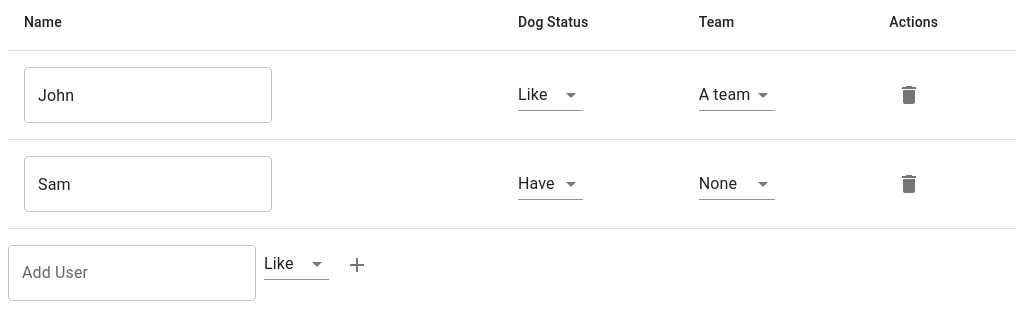
Scenario: PeoplePage › test delete
This screenshot has width=1024, height=318.
Step 1. Click the 1st button with test id "delete" → (909, 95), box 889,75 -> 929,115
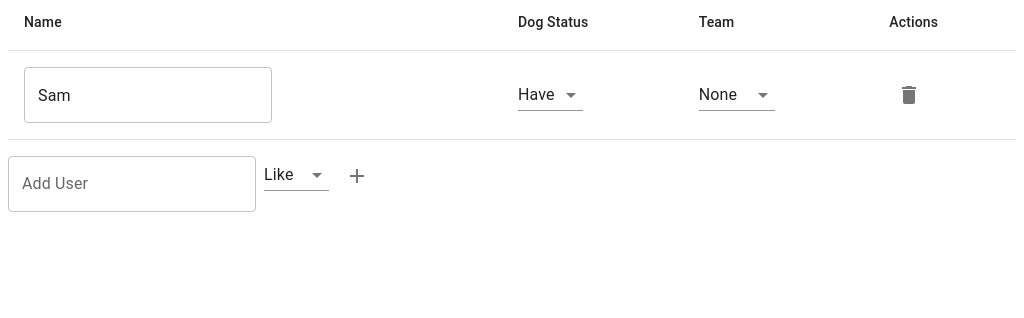
Expected: the 1st field holds "Sam", 24,67 -> 272,123
Now the number of elements with test id "name" is 1, box 24,67 -> 272,123
